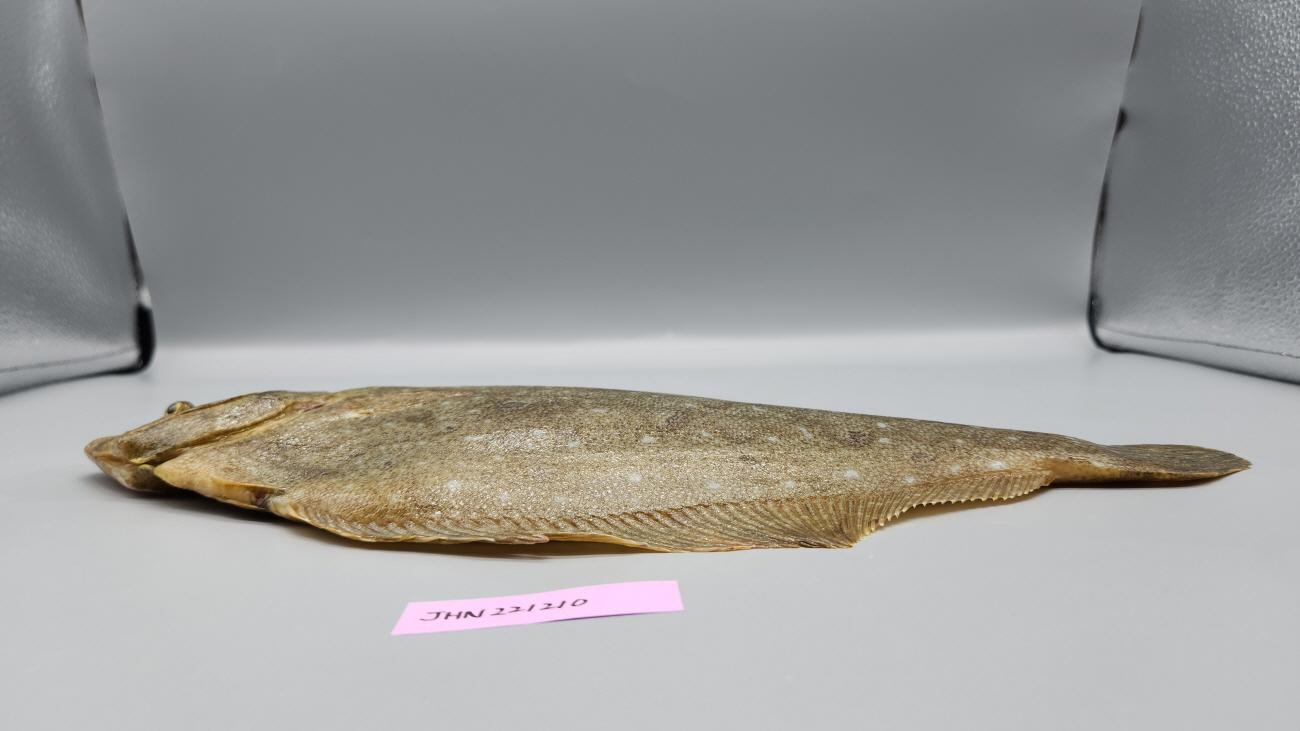POOUN: (80, 384, 1256, 558)
